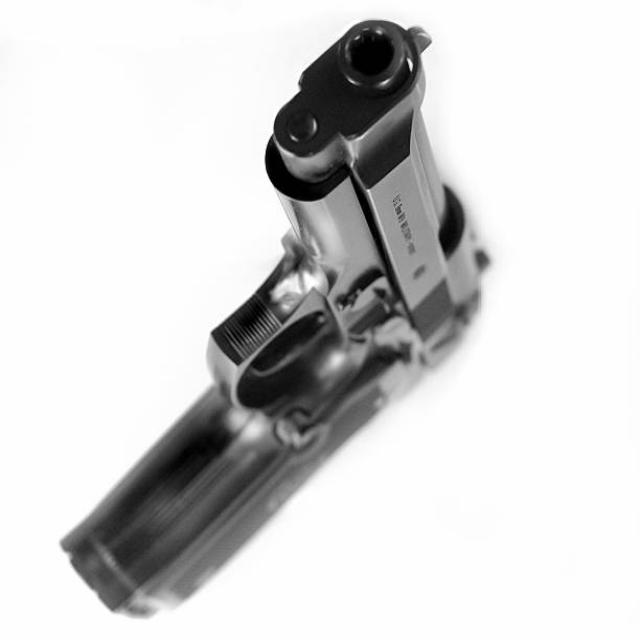pistol: (53, 16, 504, 624)
